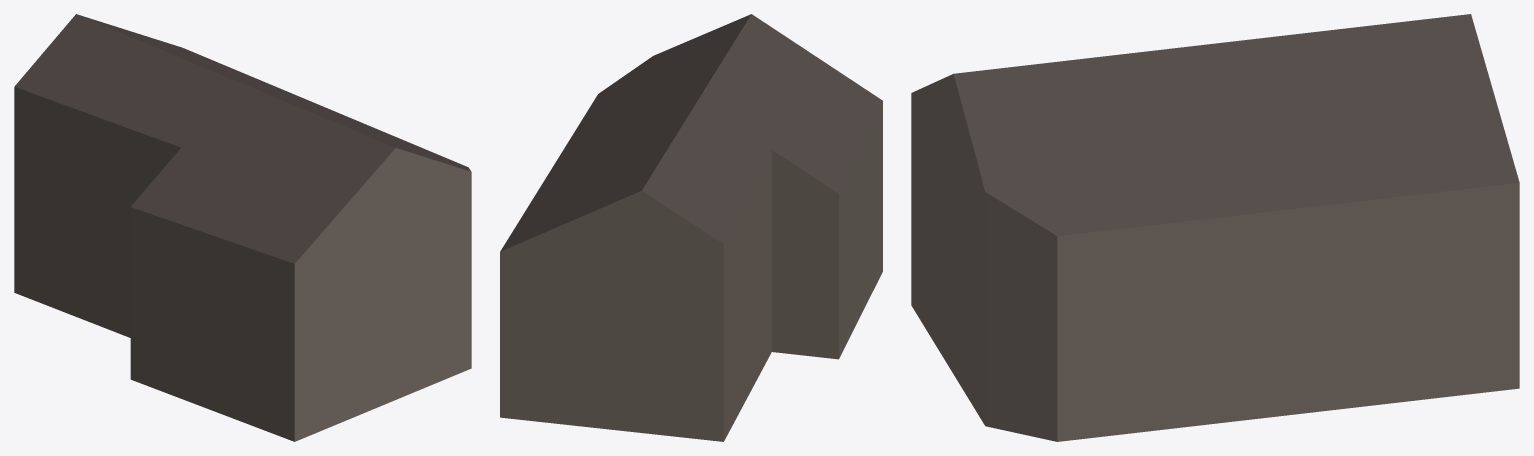
3 views of the same model, side by side, from view 1: azimuth 30°, elevation 25°; view 2: azimuth 150°, elevation 25°; view 3: azimuth 270°, elevation 25° (orthographic). The views are drawn at different scales.
Parts seen in each view (by area): view 1: HP-w1197025788; view 2: HP-w1197025788; view 3: HP-w1197025788.
Boxes of the visible parts, x1,y1,x2,y2 form: HP-w1197025788: (14, 14, 471, 441); HP-w1197025788: (500, 14, 882, 441); HP-w1197025788: (911, 14, 1519, 441).
Bounding box in the file's own units: 16.07 × 13.16 × 24.14.
